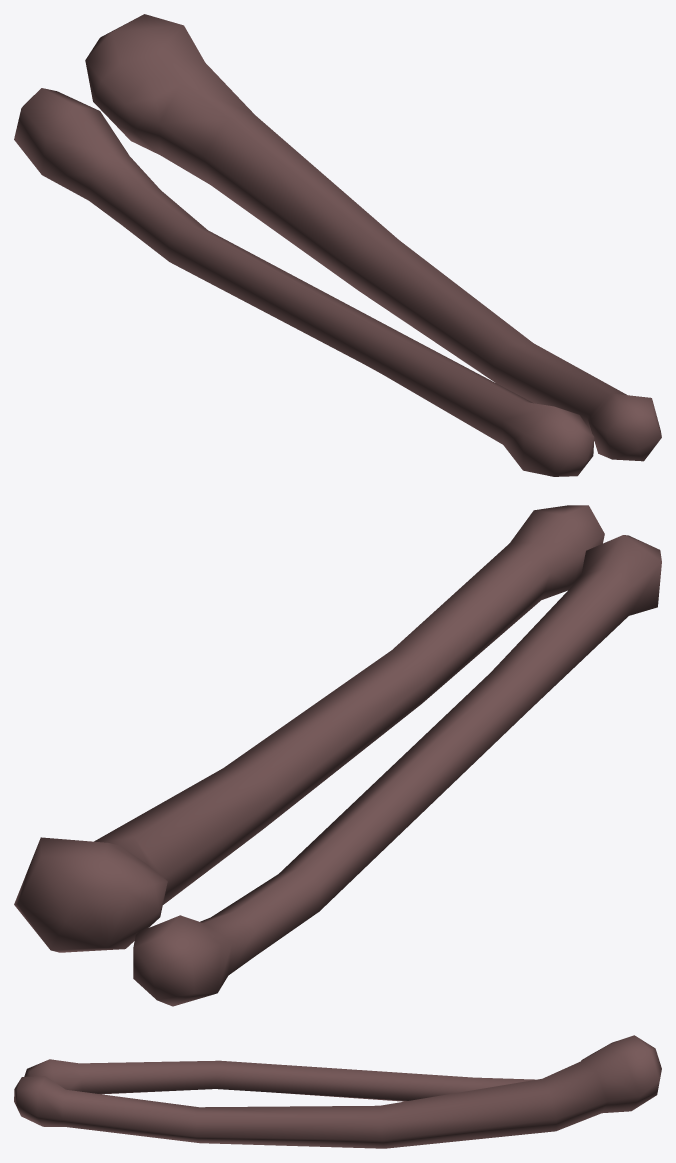
The model's file is SM_BirdSkeletonForearm.FBX.
3 renders of one model, top to bottom at view 1: azimuth 30°, elevation 25°; view 2: azimuth 150°, elevation 25°; view 3: azimuth 270°, elevation 25°, orthographic. The views are drawn at different scales.
Parts seen in each view (by area): view 1: SM_BirdSkeletonForearm; view 2: SM_BirdSkeletonForearm; view 3: SM_BirdSkeletonForearm.
Boxes of the visible parts, x1,y1,x2,y2 form: SM_BirdSkeletonForearm: (14,14,661,476); SM_BirdSkeletonForearm: (14,505,661,1006); SM_BirdSkeletonForearm: (14,1035,661,1148).
Bounding box in the file's own units: 23.75 × 16.58 × 109.
